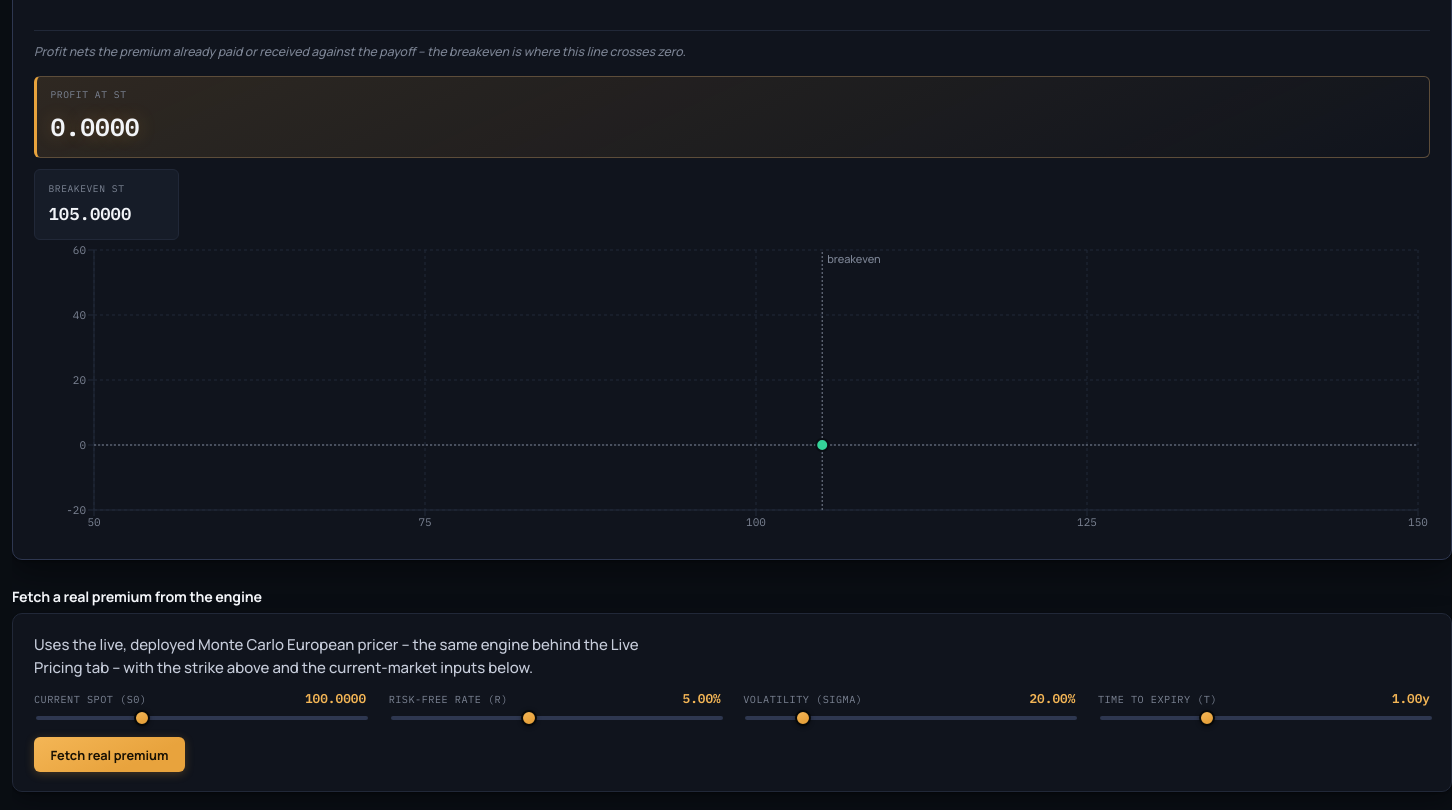
Test: OptionsPayoffLab › fetches a real premium from the engine and applies it to the profit curve
(page scrolled)
Click the button "Fetch real premium" at x=110, y=755, box [34,737,185,772]
(page scrolled)
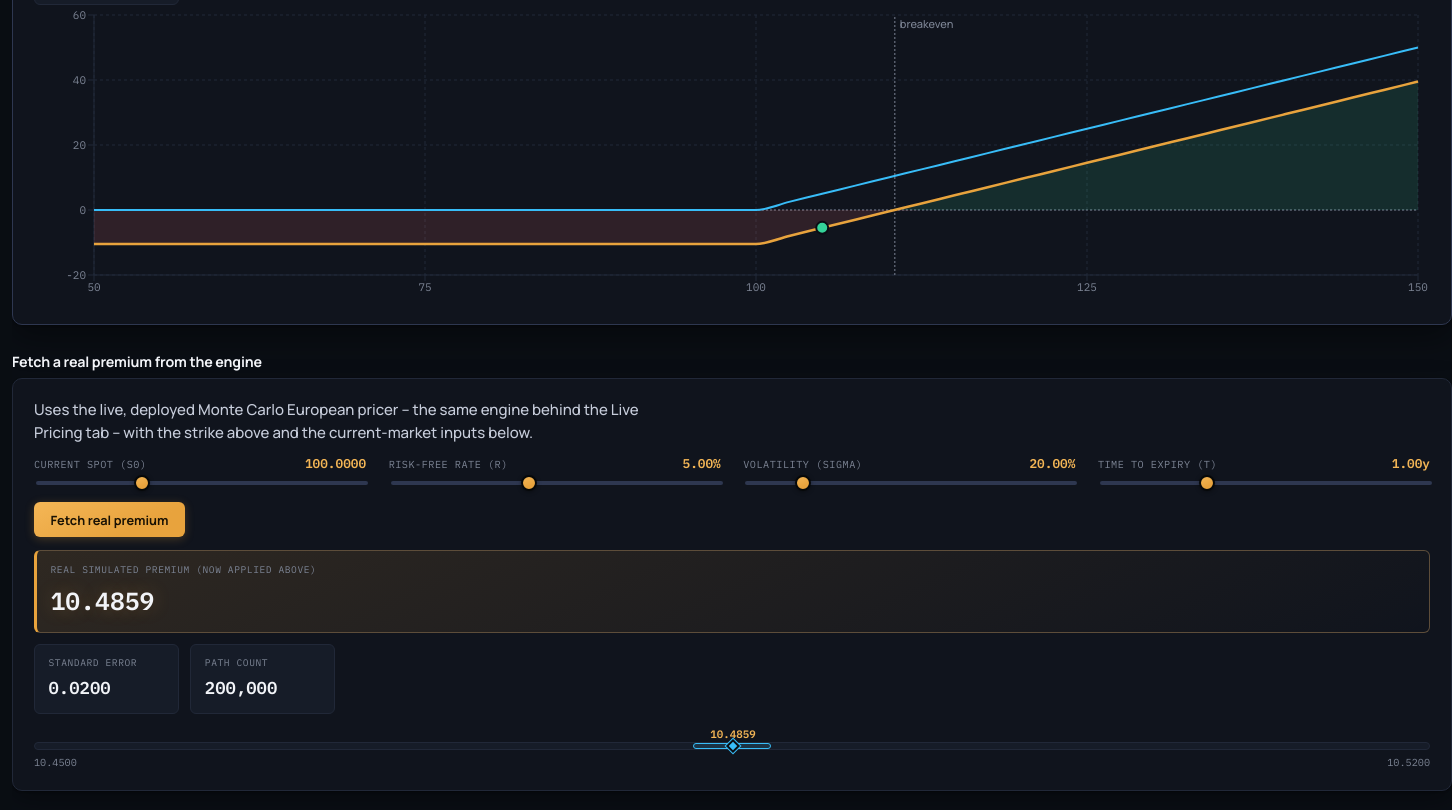
Check: the text "Real simulated premium (now applied above)" is shown, box [50,563,316,576]
Check: the 1st text "10.4859" is shown, box [50,585,154,617]
